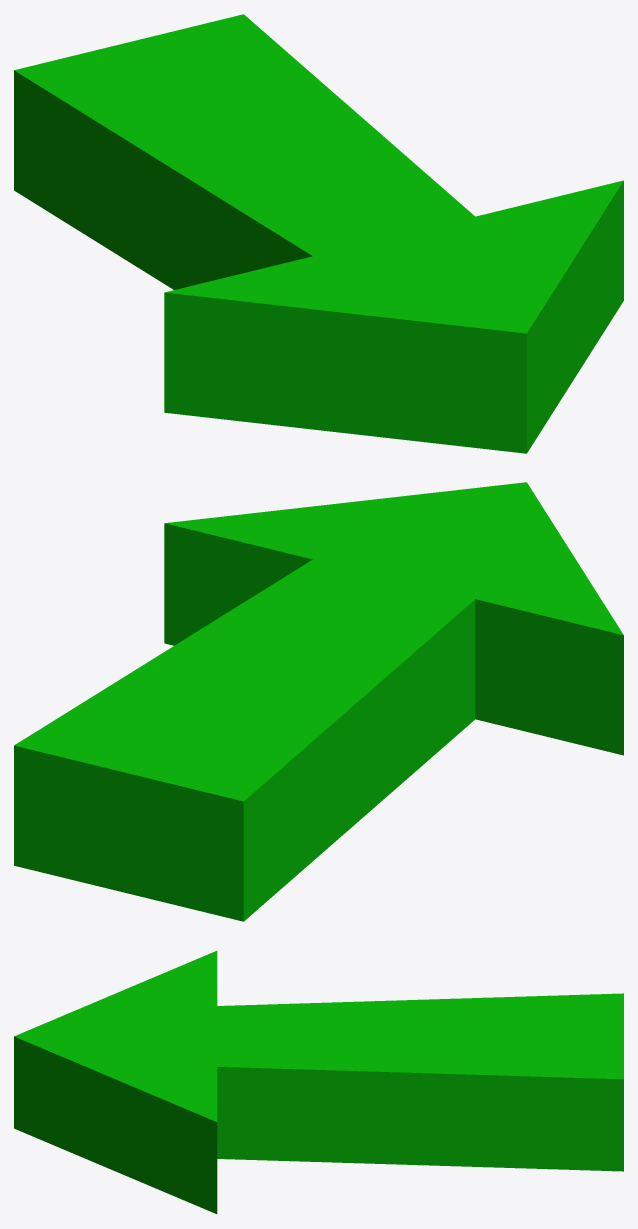
The model's file is arrow.fbx.
3 views of the same model, one above another, from view 1: azimuth 30°, elevation 25°; view 2: azimuth 150°, elevation 25°; view 3: azimuth 270°, elevation 25° (orthographic). The views are drawn at different scales.
Parts seen in each view (by area): view 1: pCube1; view 2: pCube1; view 3: pCube1.
Boxes of the visible parts, x1,y1,x2,y2 form: pCube1: (14,14,623,453); pCube1: (14,482,623,921); pCube1: (14,951,623,1213).
Size of the model in its own units: 4 by 1 by 6.
